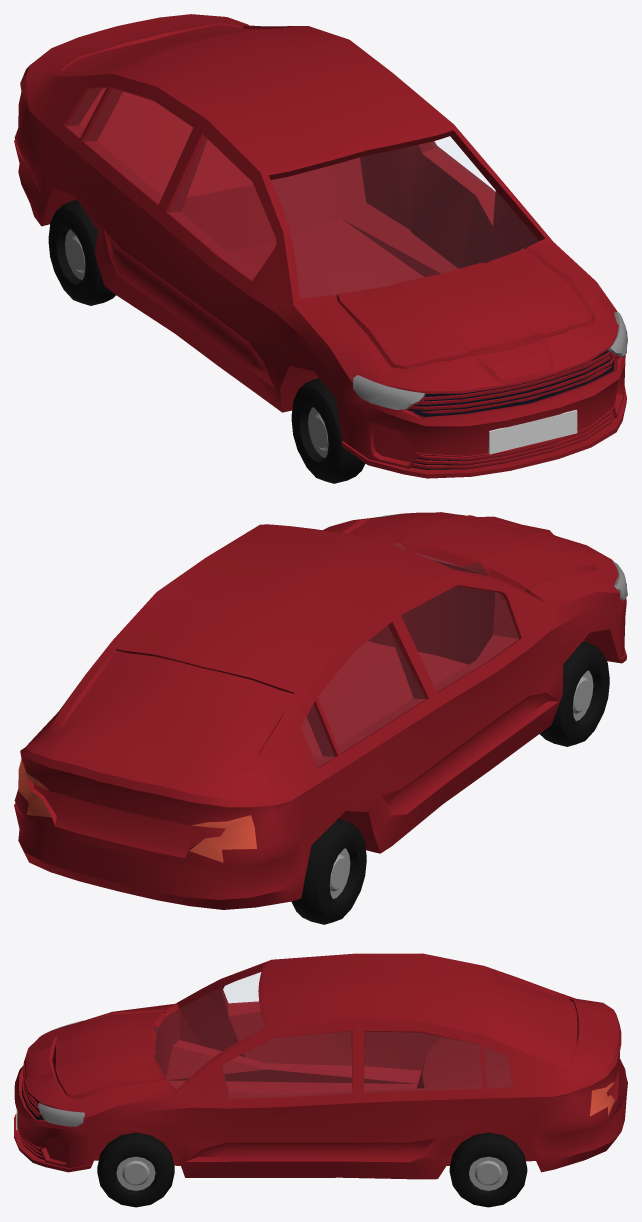
The model's file is Final Car v1.fbx.
3 renders of one model, top to bottom at view 1: azimuth 30°, elevation 25°; view 2: azimuth 150°, elevation 25°; view 3: azimuth 270°, elevation 25°, orthographic. The views are drawn at different scales.
Parts seen in each view (by area): view 1: Main Car, F R wheel.003, B L wheel.006, plaka.001; view 2: Main Car, B L wheel.006, F R wheel.003; view 3: Main Car, B L wheel.005, F L wheel.004.
Part boxes in pixels (left/top/right/bottom): Main Car: left=14, top=14, right=627, bottom=478; F R wheel.003: left=291, top=378, right=365, bottom=483; B L wheel.006: left=48, top=200, right=116, bottom=305; plaka.001: left=488, top=410, right=577, bottom=454; Main Car: left=14, top=512, right=627, bottom=909; B L wheel.006: left=291, top=819, right=366, bottom=924; F R wheel.003: left=540, top=641, right=609, bottom=746; Main Car: left=14, top=953, right=627, bottom=1179; B L wheel.005: left=449, top=1132, right=527, bottom=1207; F L wheel.004: left=97, top=1132, right=174, bottom=1207.
Bounding box in the file's own units: 194 × 494 × 159.
